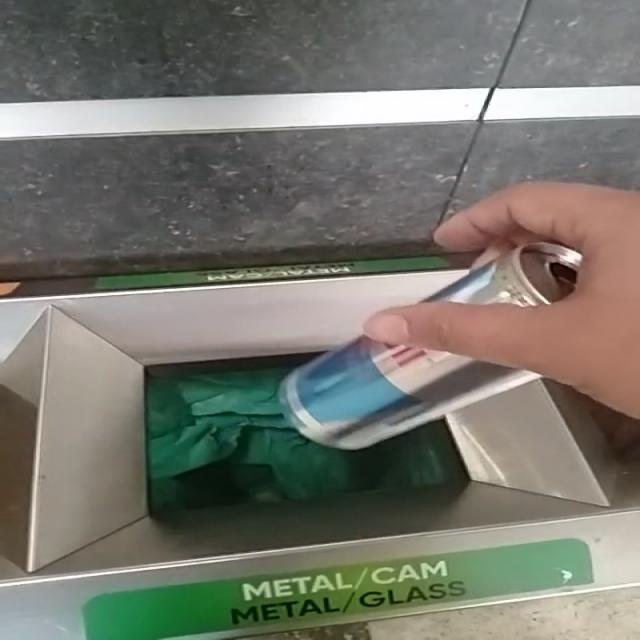Metal: (280, 338, 543, 450), (429, 244, 583, 306)
